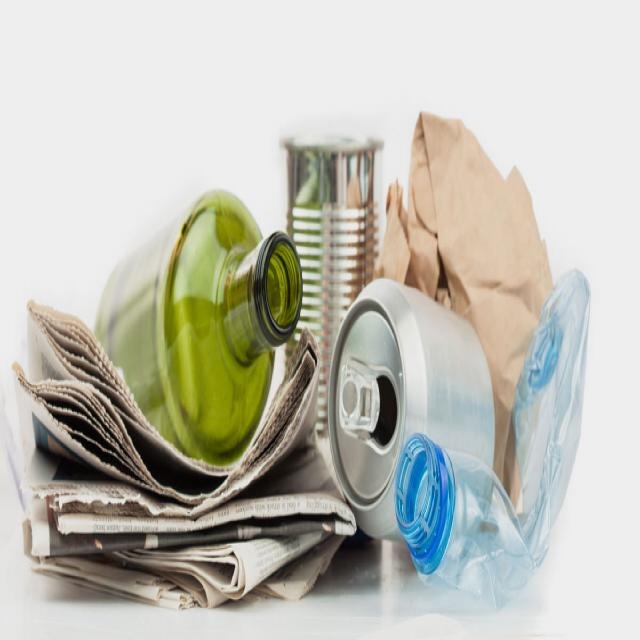metal: (326, 279, 496, 539), (283, 128, 386, 434)
paper: (8, 322, 357, 608)
plastic: (394, 418, 583, 611)
